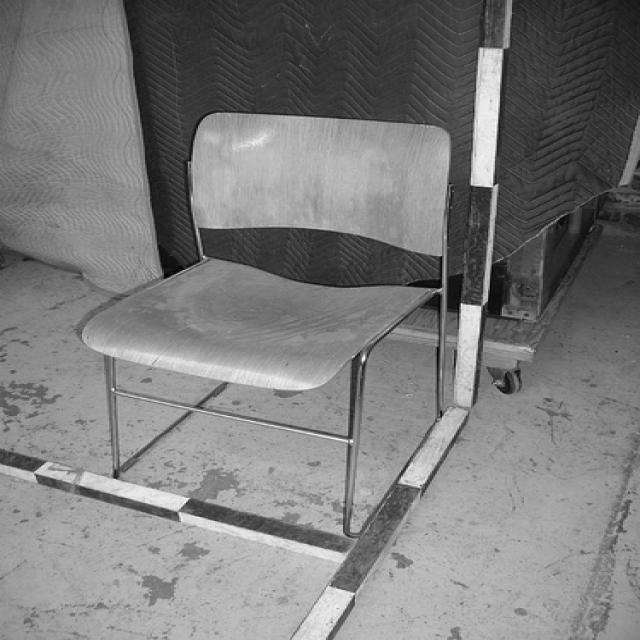chair: (73, 108, 477, 532)
